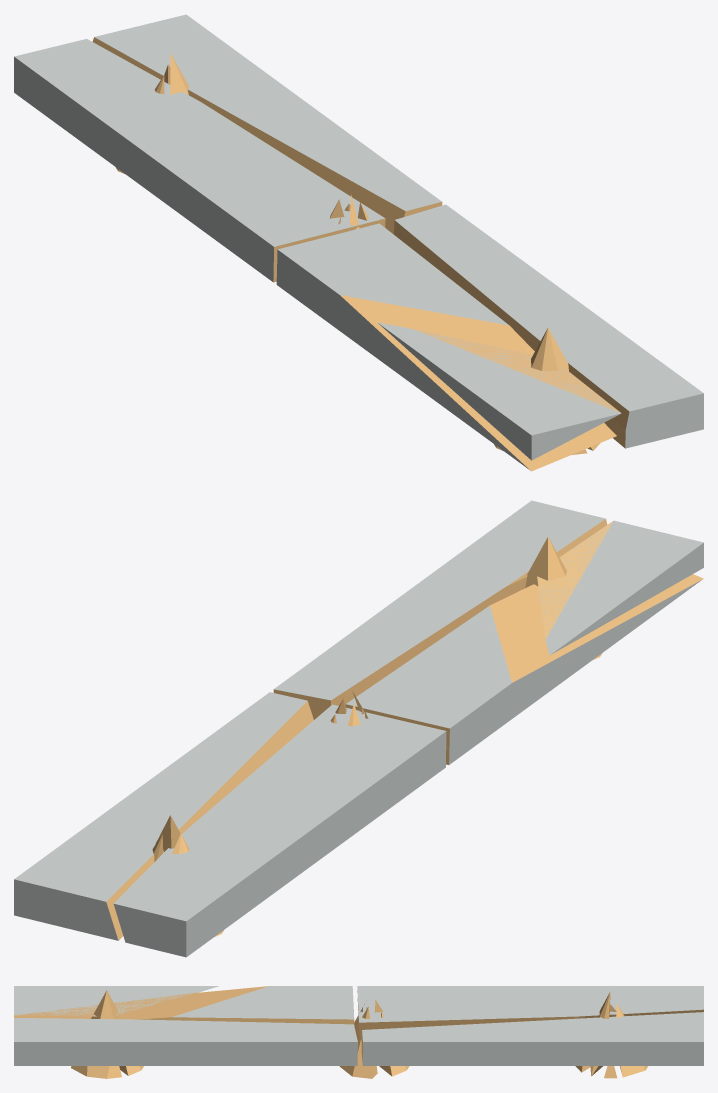
The model's file is lights ORIGIN.fbx.
3 renders of one model, top to bottom at view 1: azimuth 30°, elevation 25°; view 2: azimuth 150°, elevation 25°; view 3: azimuth 270°, elevation 25°, orthographic. The views are drawn at different scales.
Visible parts, largest first — view 1: group238967664.041_cell.003, group238967664.041_cell, group238967664.041_cell.001, group238967664.041_cell.002, group238967664.041_cell.004, group238967664.038_cell.002; view 2: group238967664.041_cell.003, group238967664.041_cell.002, group238967664.041_cell, group238967664.041_cell.001, group238967664.041_cell.004, group238967664.038_cell.002; view 3: group238967664.041_cell.001, group238967664.041_cell.002, group238967664.041_cell.003, group238967664.041_cell, group238967664.041_cell.004, group238967664.011_cell.005, group238967664.038_cell.004, group238967664.038_cell.002, group238967664.013_cell.001, group238967664.013_cell.004, group238967664.011_cell.004.
Boxes of the visible parts, x1=… form: group238967664.041_cell.003: x1=14, y1=39, x2=385, y2=282; group238967664.041_cell: x1=276, y1=223, x2=616, y2=471; group238967664.041_cell.001: x1=394, y1=204, x2=703, y2=448; group238967664.041_cell.002: x1=92, y1=14, x2=442, y2=234; group238967664.041_cell.004: x1=377, y1=322, x2=621, y2=460; group238967664.038_cell.002: x1=531, y1=327, x2=568, y2=370; group238967664.041_cell.003: x1=113, y1=704, x2=446, y2=957; group238967664.041_cell.002: x1=14, y1=692, x2=313, y2=940; group238967664.041_cell: x1=345, y1=574, x2=703, y2=764; group238967664.041_cell.001: x1=273, y1=500, x2=607, y2=719; group238967664.041_cell.004: x1=537, y1=520, x2=703, y2=655; group238967664.038_cell.002: x1=525, y1=537, x2=566, y2=587; group238967664.041_cell.001: x1=14, y1=1018, x2=357, y2=1065; group238967664.041_cell.002: x1=361, y1=1012, x2=703, y2=1065; group238967664.041_cell.003: x1=357, y1=986, x2=703, y2=1041; group238967664.041_cell: x1=14, y1=986, x2=354, y2=1026; group238967664.041_cell.004: x1=14, y1=986, x2=218, y2=1016; group238967664.011_cell.005: x1=339, y1=1006, x2=377, y2=1078; group238967664.038_cell.004: x1=71, y1=1066, x2=121, y2=1078; group238967664.038_cell.002: x1=91, y1=990, x2=120, y2=1019; group238967664.013_cell.001: x1=616, y1=1003, x2=648, y2=1077; group238967664.013_cell.004: x1=590, y1=992, x2=610, y2=1076; group238967664.011_cell.004: x1=379, y1=1011, x2=409, y2=1076.
Bounding box in the file's own units: 5 × 3 × 26.
